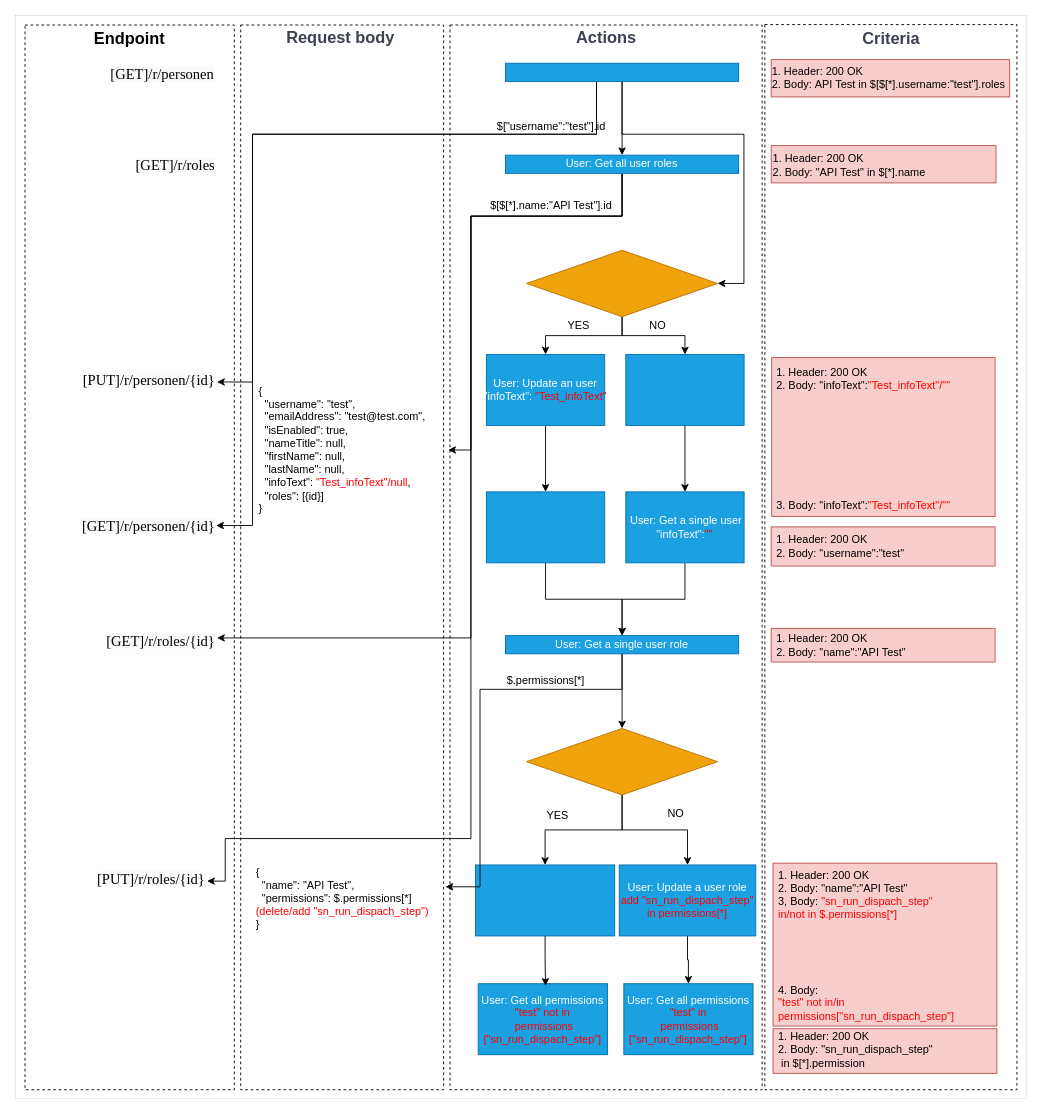
This 1041x1114 diagram has some shape labels left out. The centre of each missing label's shape, as x and y in pixels:
"sn_run_dispach_step" in $.permissions[*]?: point 622,761
$[$[*].username:"test"].infoText :"" ?: point 622,283
User: Get a single user "infoText": "Test_infoText": point 545,527
User: Get all users: point 622,71
User: Update a user role delete "sn_run_dispach_step" in permissions[*]: point 545,900
User: Update an user "infoText": "": point 684,389
